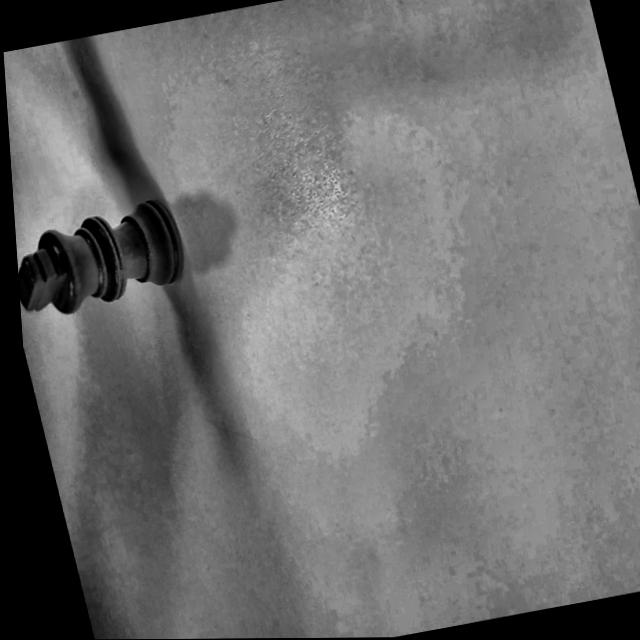black-king: (12, 179, 223, 340)
